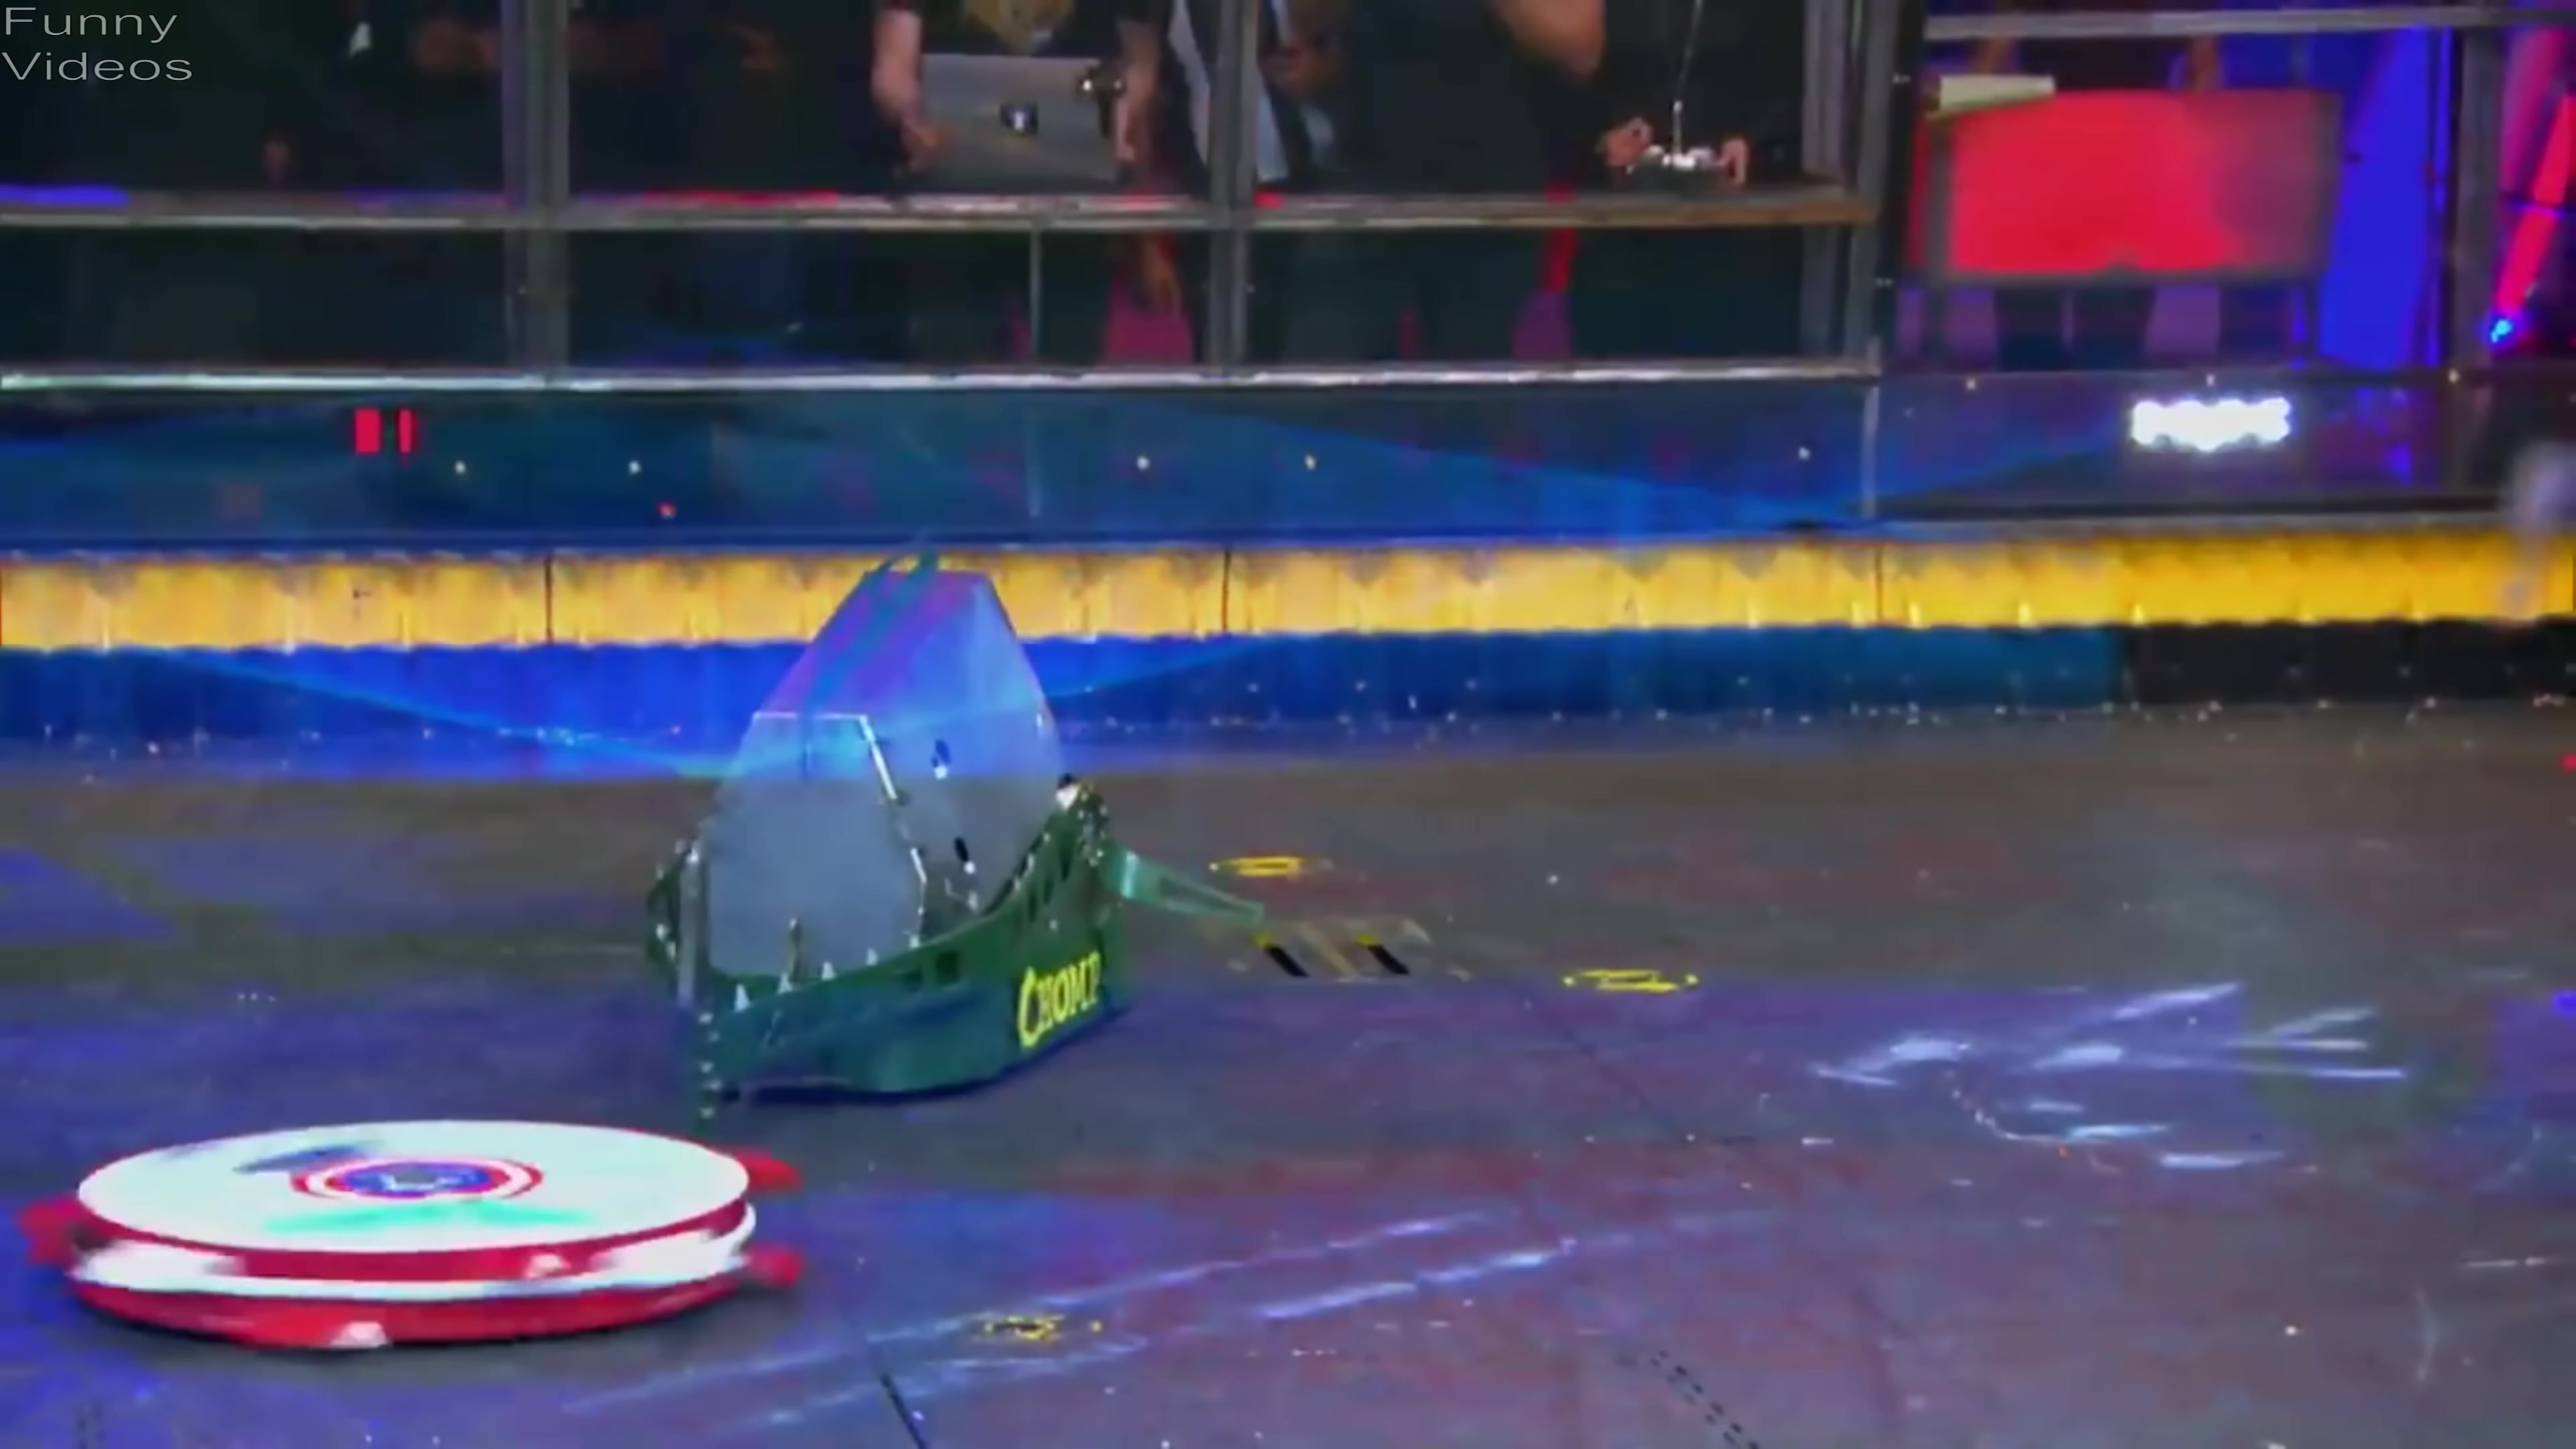combatbot: (640, 573, 1138, 1131), (25, 1122, 809, 1348)
